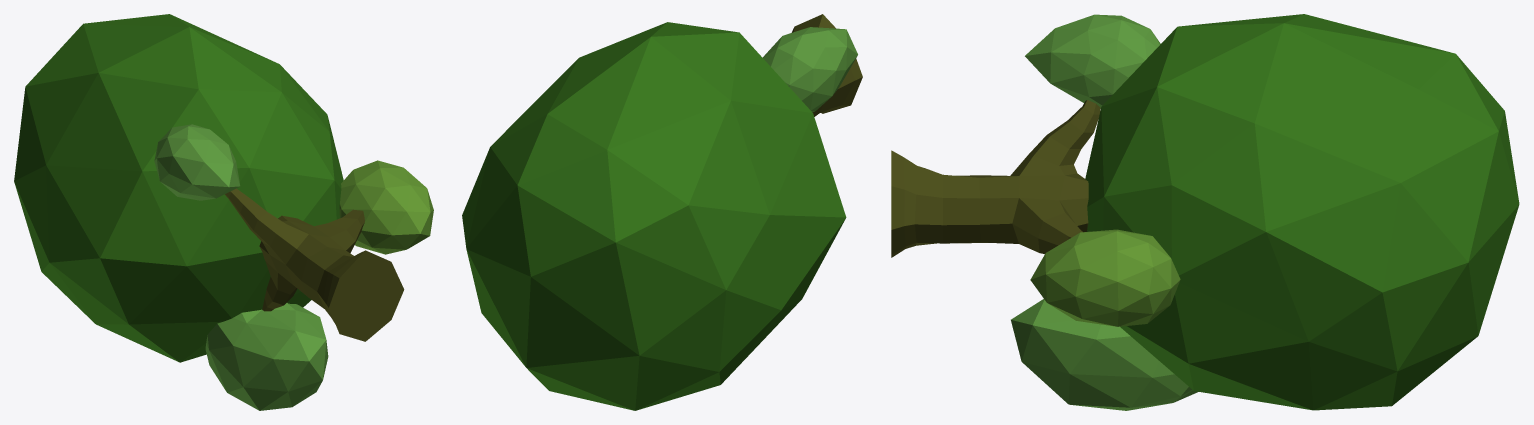
The model's file is WillowTree_2.fbx.
3 views of the same model, side by side, from view 1: azimuth 30°, elevation 25°; view 2: azimuth 150°, elevation 25°; view 3: azimuth 270°, elevation 25° (orthographic). The views are drawn at different scales.
Parts seen in each view (by area): view 1: WillowTree_2; view 2: WillowTree_2; view 3: WillowTree_2.
Part boxes in pixels (x1=…): WillowTree_2: x1=14, y1=14, x2=433, y2=410; WillowTree_2: x1=462, y1=14, x2=862, y2=410; WillowTree_2: x1=891, y1=14, x2=1519, y2=410.
Bounding box in the file's own units: 293 × 307 × 463.
